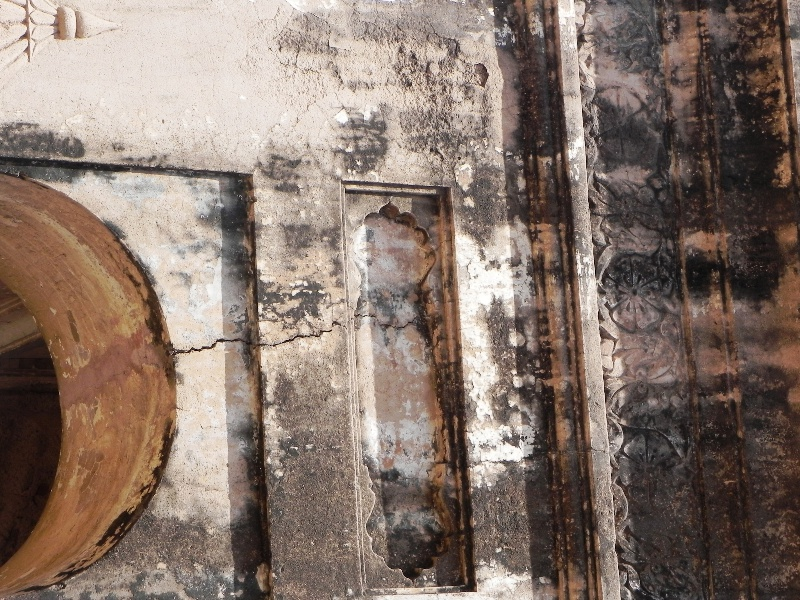Crack: (168, 314, 346, 367)
